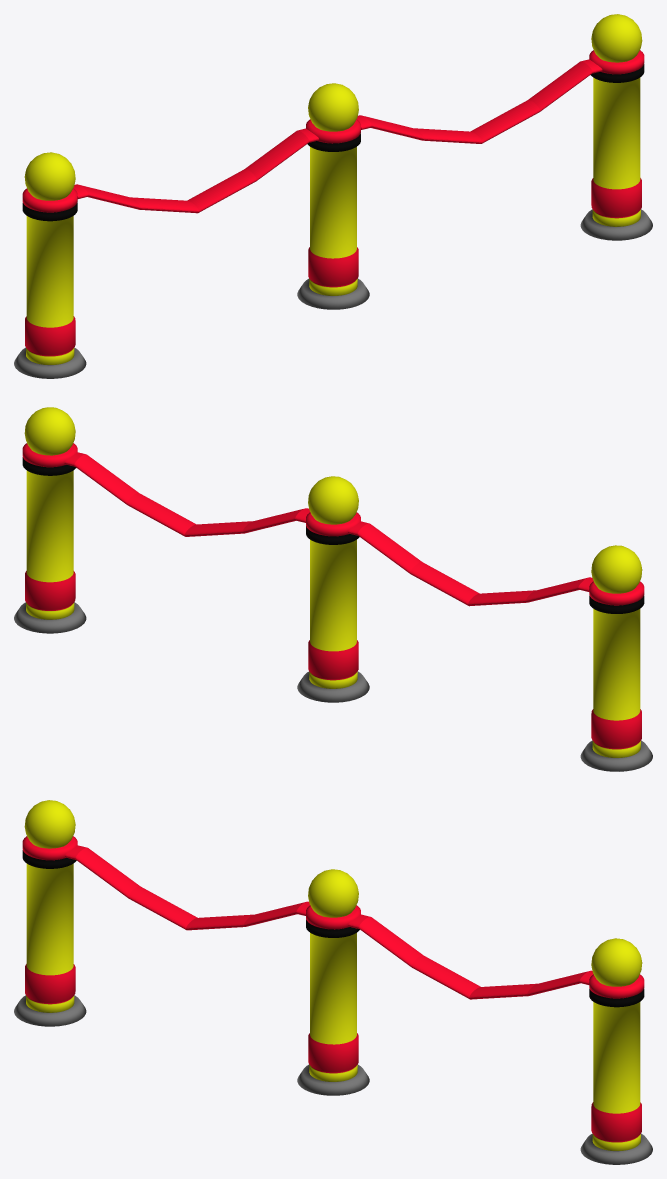
The model's file is WallBlocker.fbx.
3 renders of one model, top to bottom at view 1: azimuth 30°, elevation 25°; view 2: azimuth 150°, elevation 25°; view 3: azimuth 330°, elevation 25°, orthographic.
Visible parts, largest first — view 1: WallBlocker; view 2: WallBlocker; view 3: WallBlocker.
Part boxes in pixels (x1,y1,x2,y2): WallBlocker: (14,14,652,378); WallBlocker: (14,407,652,771); WallBlocker: (14,800,652,1164).
Size of the model in its own units: 3834 by 1216 by 383.
